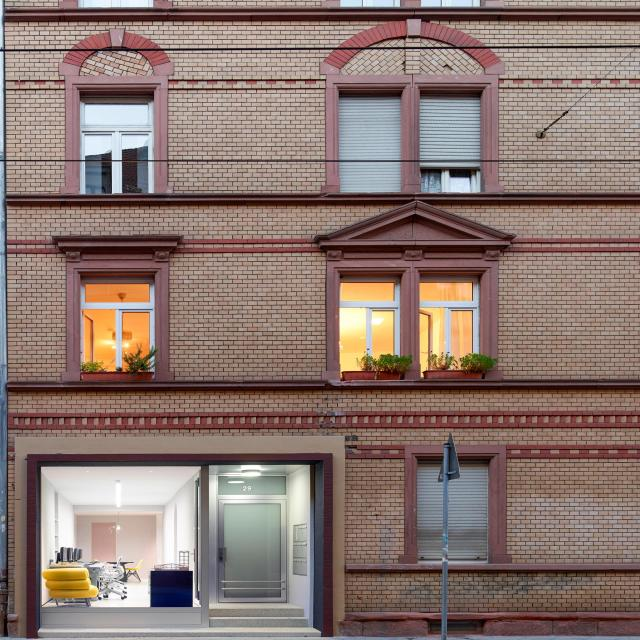door: (216, 472, 290, 608)
window: (36, 466, 203, 610), (416, 458, 492, 563), (77, 278, 156, 377), (82, 94, 154, 194), (337, 89, 401, 194), (418, 89, 482, 193), (417, 277, 478, 377), (340, 278, 400, 378)
